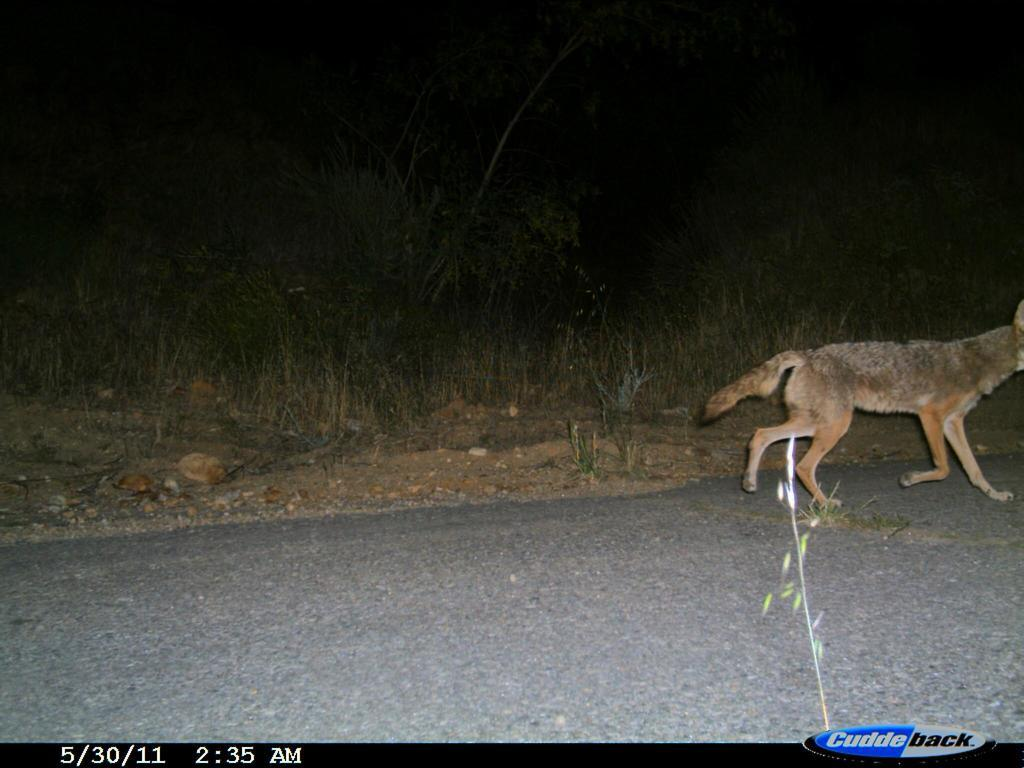coyote: (702, 295, 1023, 518)
